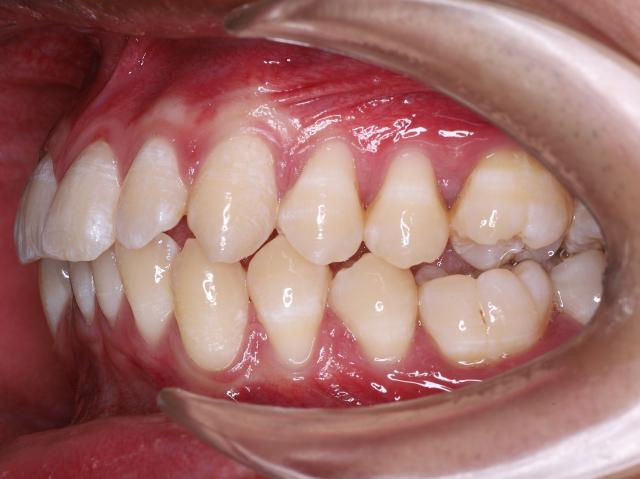canine class II 1/2: (168, 134, 332, 393)
molar class III 1/4: (410, 146, 576, 376)
